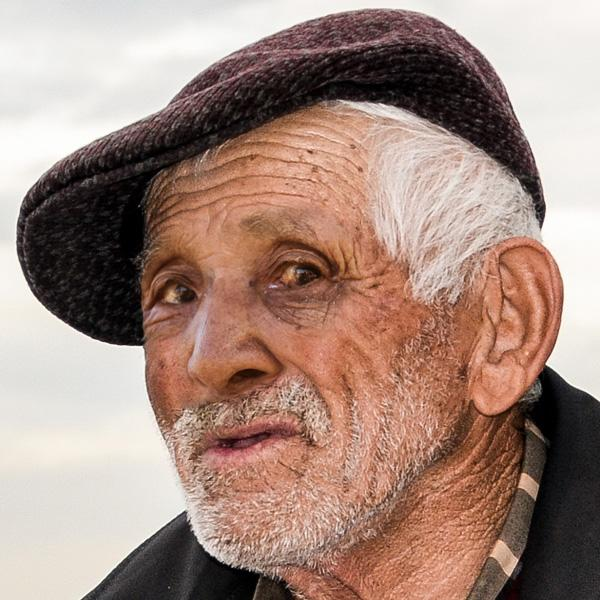Eyes: (255, 241, 335, 309), (140, 265, 210, 317)
